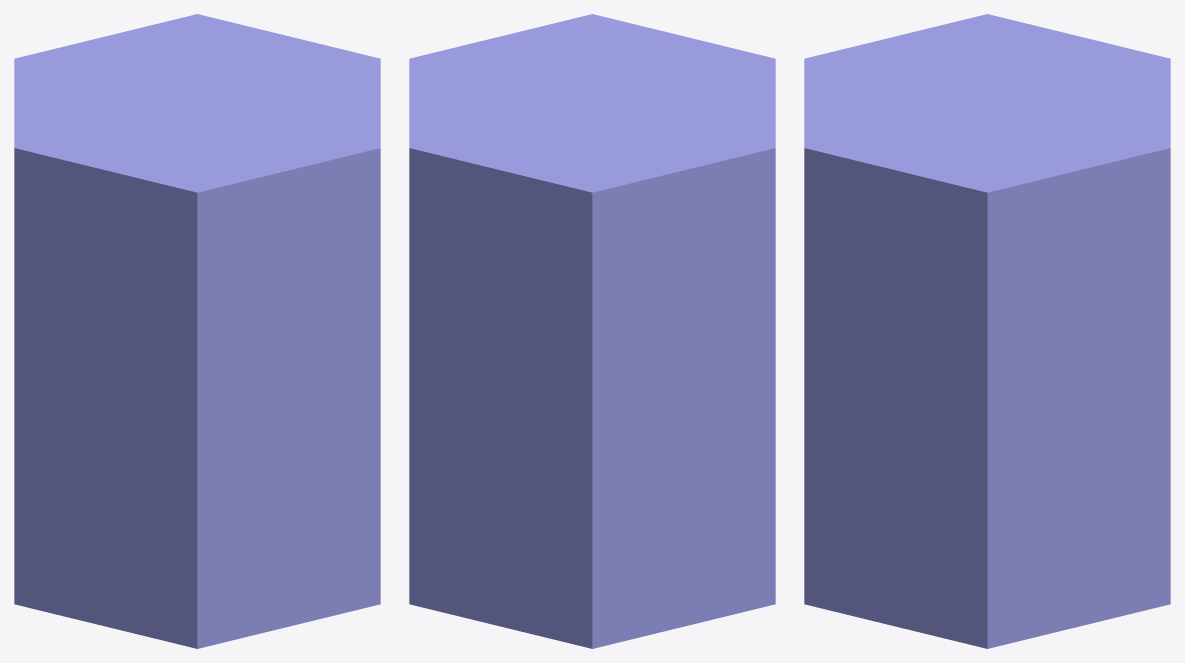
The picture shows the model from 3 angles, left to right: view 1: azimuth 30°, elevation 25°; view 2: azimuth 150°, elevation 25°; view 3: azimuth 270°, elevation 25°; orthographic projection.
Visible parts, largest first — view 1: LowResHexBar; view 2: LowResHexBar; view 3: LowResHexBar.
Part boxes in pixels (bbox=[...]): LowResHexBar: bbox=[14, 14, 380, 648]; LowResHexBar: bbox=[409, 14, 775, 648]; LowResHexBar: bbox=[804, 14, 1170, 648].
Size of the model in its own units: 0.84 by 1 by 0.7275.
